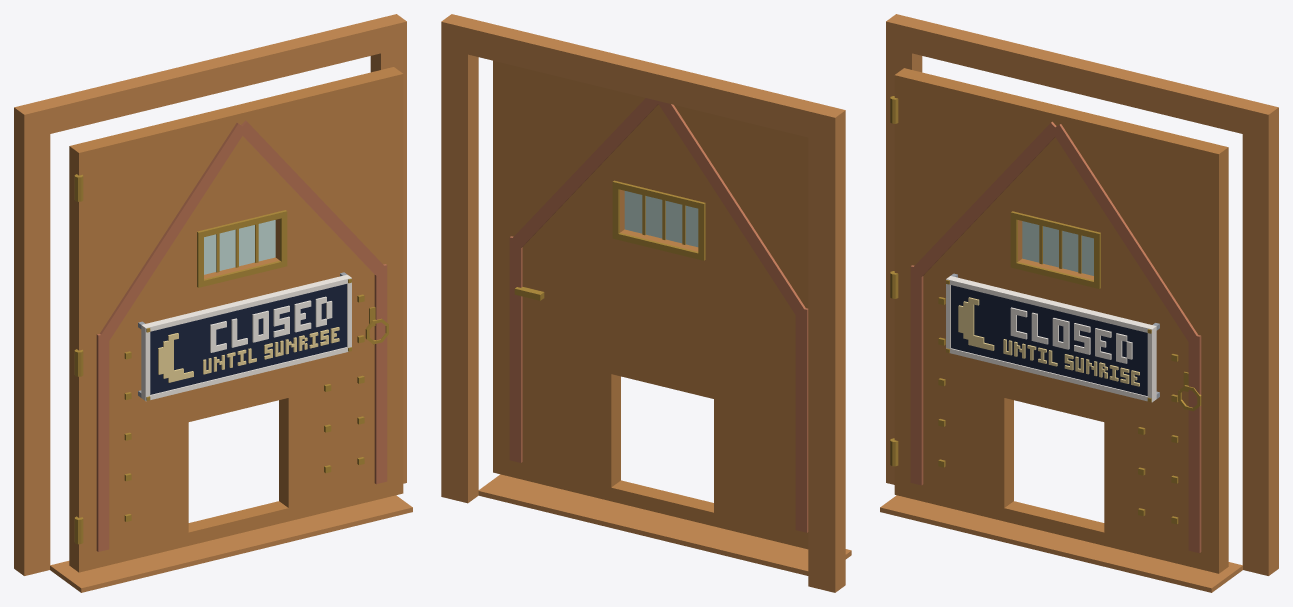
The model's file is CatCafe_Door_ArchGate_Back.glb.
3 renders of one model, left to right at view 1: azimuth 30°, elevation 25°; view 2: azimuth 150°, elevation 25°; view 3: azimuth 330°, elevation 25°, orthographic. The views are drawn at different scales.
Visible parts, largest first — view 1: CatCafe_Door_ArchGate_Back_Leaf, CatCafe_Door_ArchGate_Back, CatCafe_Door_ArchGate_Back_Sign, CatCafe_Door_ArchGate_Back_Leaf_Glass, CatCafe_Door_ArchGate_Back_Sign_Bulb; view 2: CatCafe_Door_ArchGate_Back_Leaf, CatCafe_Door_ArchGate_Back, CatCafe_Door_ArchGate_Back_Leaf_Glass; view 3: CatCafe_Door_ArchGate_Back_Leaf, CatCafe_Door_ArchGate_Back, CatCafe_Door_ArchGate_Back_Sign, CatCafe_Door_ArchGate_Back_Leaf_Glass, CatCafe_Door_ArchGate_Back_Sign_Bulb.
Boxes of the visible parts, left/top/right/bottom form: CatCafe_Door_ArchGate_Back_Leaf: left=69, top=67, right=403, bottom=572; CatCafe_Door_ArchGate_Back: left=14, top=14, right=412, bottom=592; CatCafe_Door_ArchGate_Back_Sign: left=138, top=272, right=351, bottom=401; CatCafe_Door_ArchGate_Back_Leaf_Glass: left=204, top=220, right=275, bottom=274; CatCafe_Door_ArchGate_Back_Sign_Bulb: left=158, top=327, right=339, bottom=382; CatCafe_Door_ArchGate_Back_Leaf: left=493, top=60, right=808, bottom=549; CatCafe_Door_ArchGate_Back: left=441, top=14, right=851, bottom=592; CatCafe_Door_ArchGate_Back_Leaf_Glass: left=624, top=191, right=698, bottom=247; CatCafe_Door_ArchGate_Back_Leaf: left=890, top=68, right=1228, bottom=573; CatCafe_Door_ArchGate_Back: left=880, top=14, right=1278, bottom=592; CatCafe_Door_ArchGate_Back_Sign: left=946, top=273, right=1159, bottom=402; CatCafe_Door_ArchGate_Back_Leaf_Glass: left=1022, top=221, right=1093, bottom=275; CatCafe_Door_ArchGate_Back_Sign_Bulb: left=958, top=297, right=1139, bottom=386.
Size of the model in its own units: 6.9 by 7.95 by 1.3.
1 material, 1 textured.
